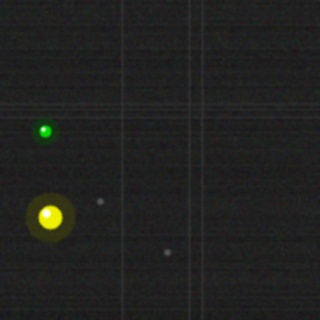green_normal: (37, 123, 53, 139)
yellow_warning: (36, 203, 64, 231)
